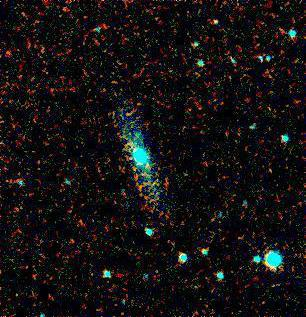star: (257, 244, 287, 274)
